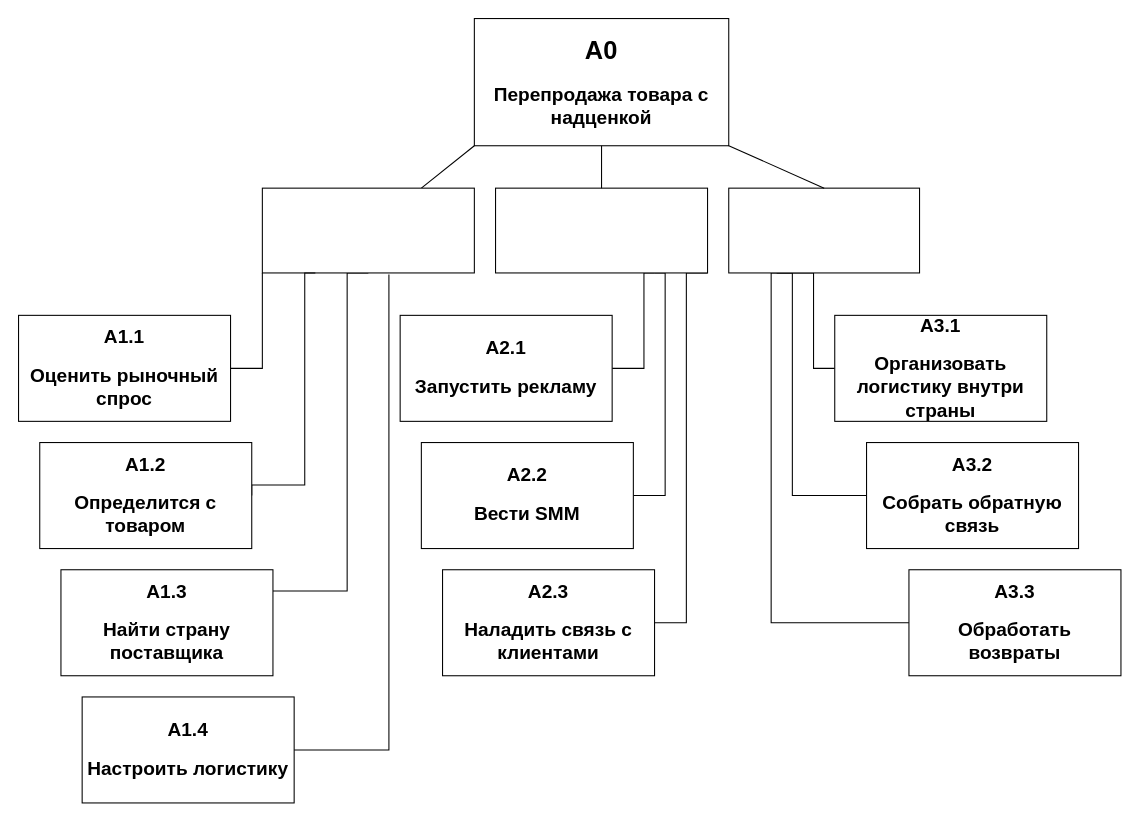
Image size: 1139x821. Some labels were removed from this diagram. Each missing label, with the box of its shape:
A1 Найти товар: (261, 187, 474, 273)
A2 Найти покупателей: (494, 187, 708, 273)
A3 Доствавить товар: (728, 187, 920, 273)
